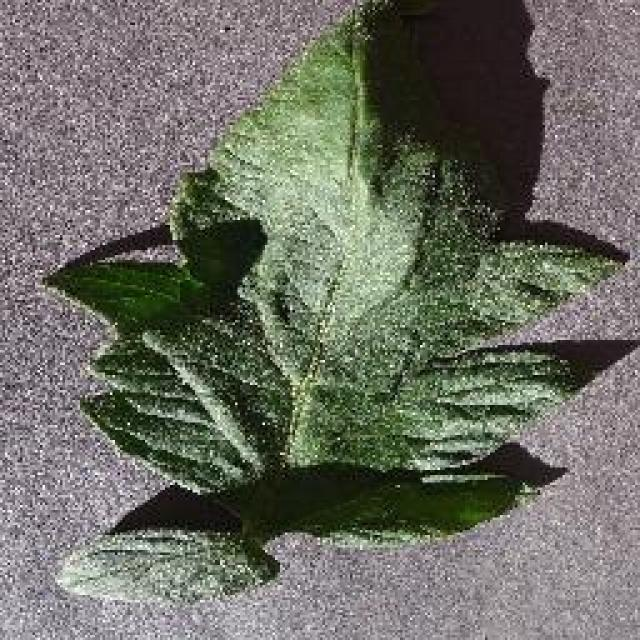Healthy: (30, 0, 640, 625)
